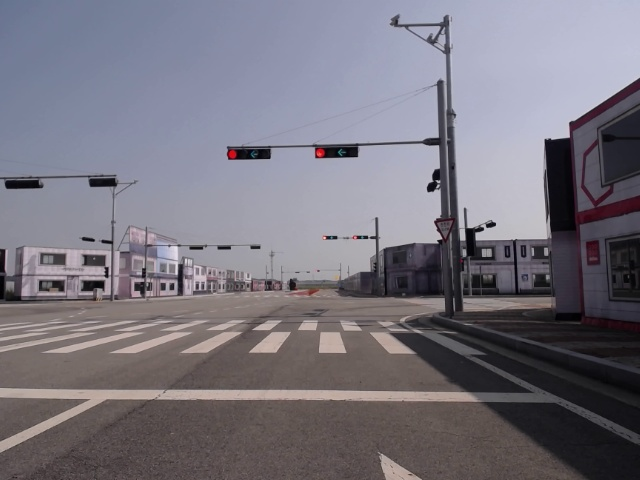left_green_4: (225, 148, 271, 160), (314, 147, 359, 159)
